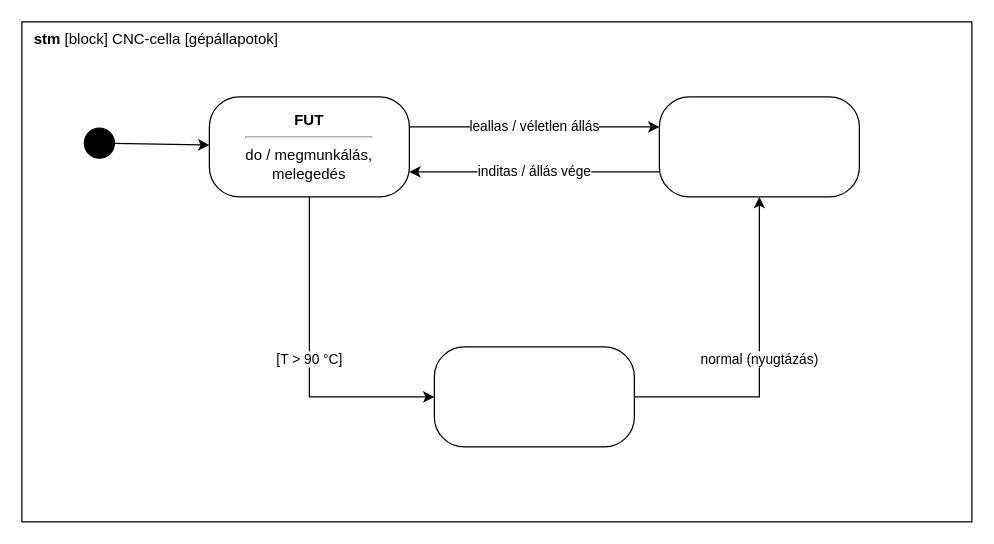
The diagram is 994 pixels wide and 544 high, and some of its shapes have lost their labels. Here are the shapes that lost their labels. From the top down, the box of each, then its label:
(658, 96, 859, 197): ÁLL do / hűlés 22 °C felé
(433, 346, 634, 447): HIBA entry / védelmi leállás
